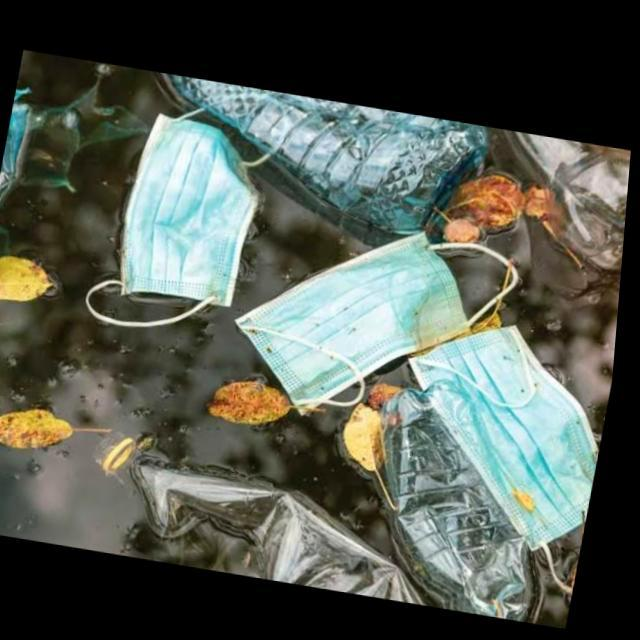plastic_bottle: (102, 435, 439, 600), (161, 70, 489, 231), (381, 384, 541, 615), (490, 121, 633, 263)
